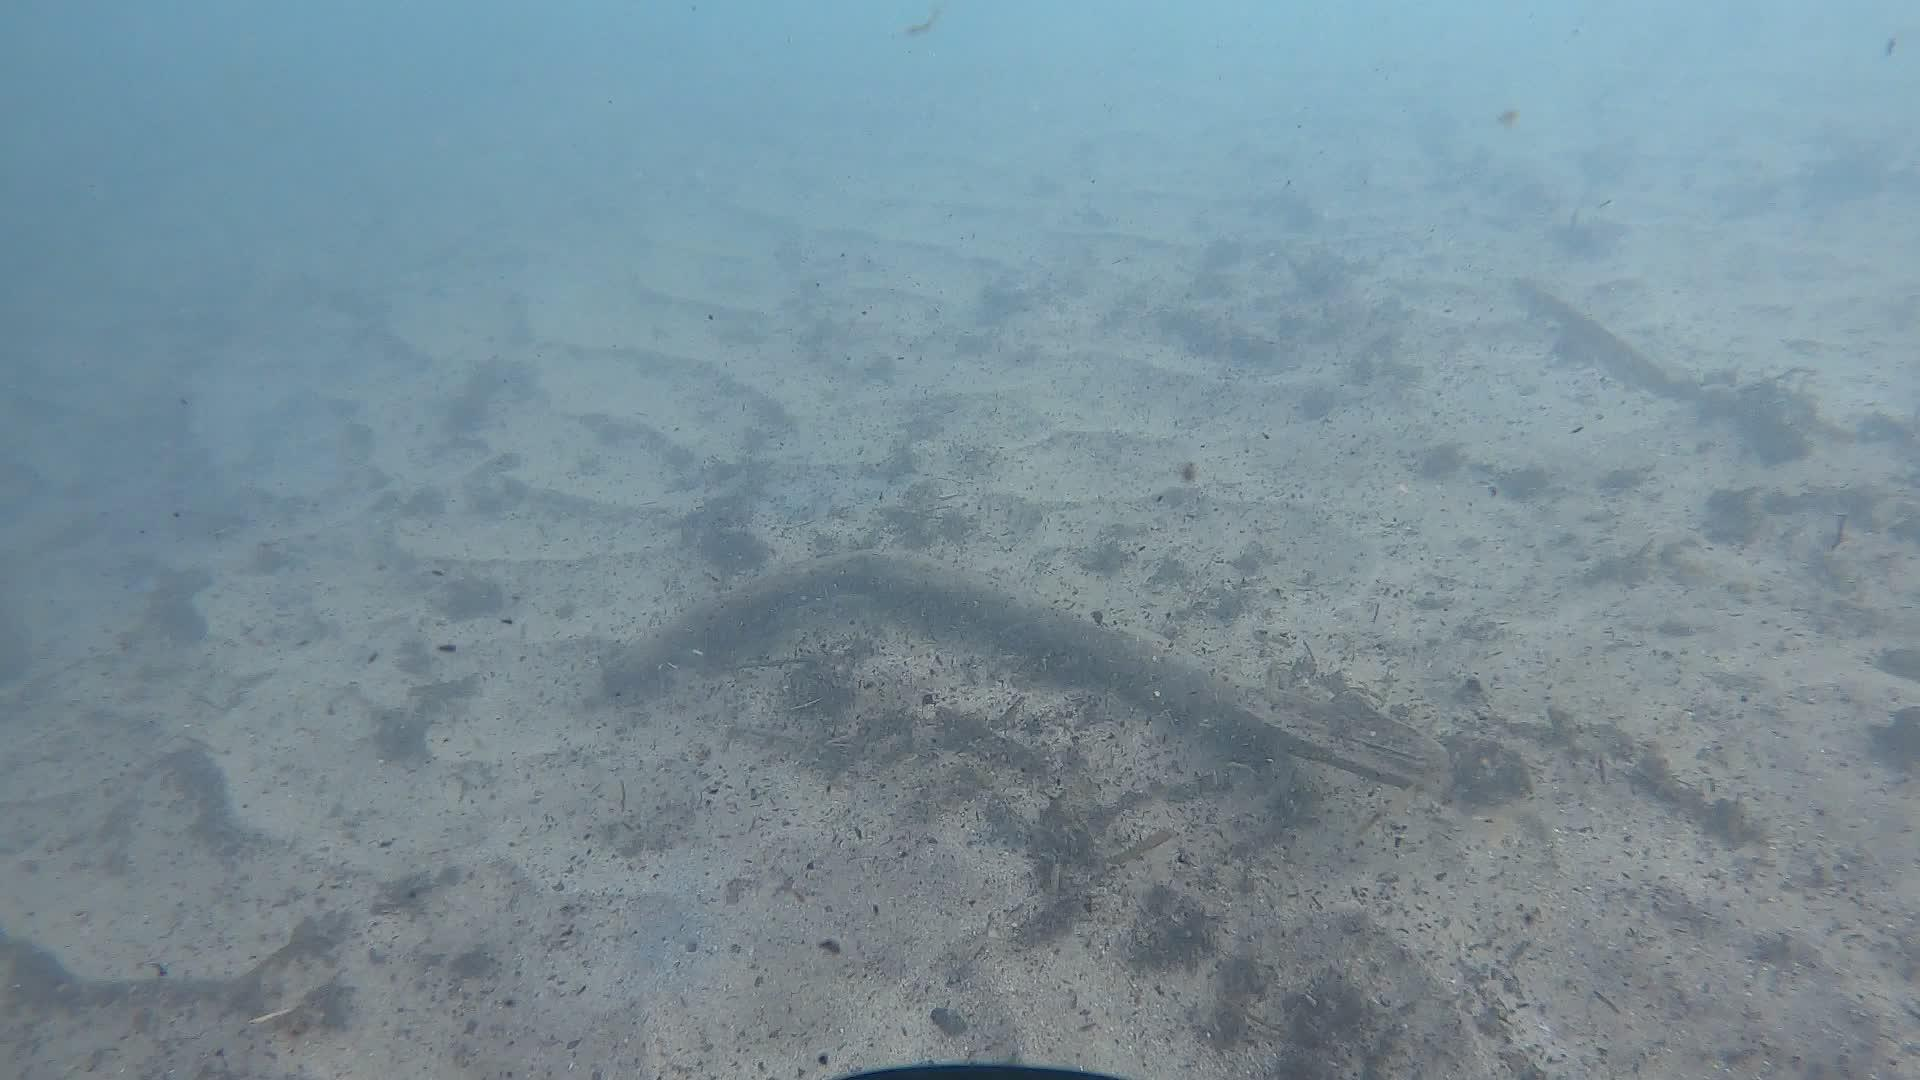wood: (597, 553, 1451, 787)
